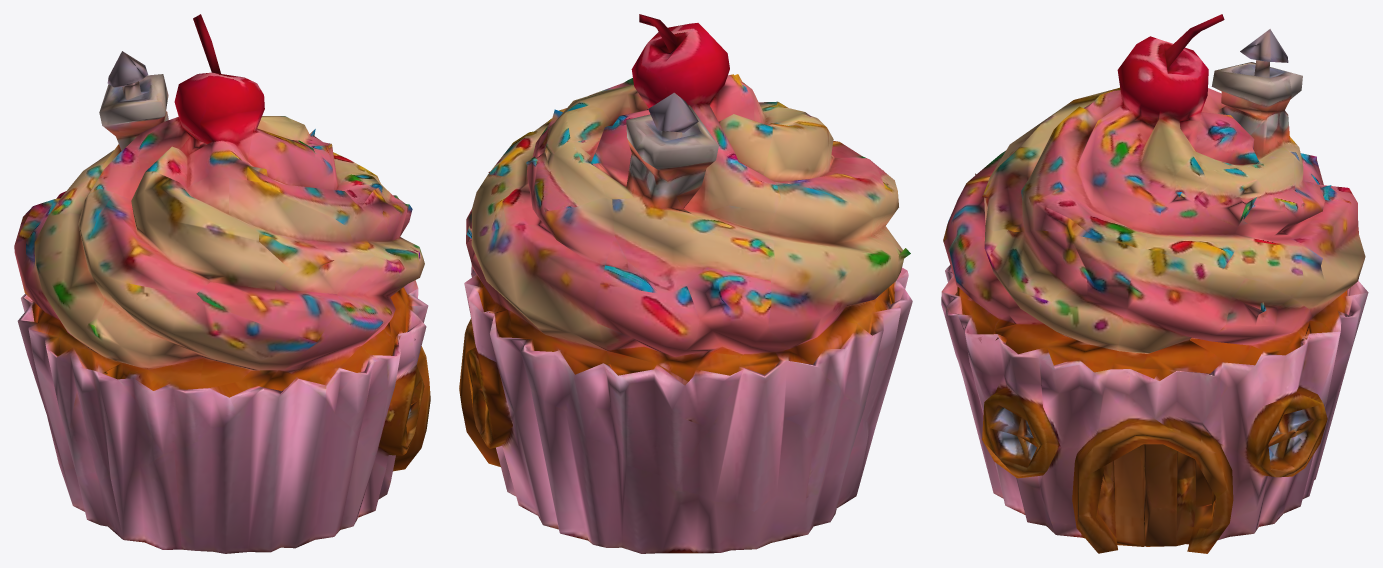
The model's file is candy-cupcake-house-lod-glf3HGH4.glb.
3 renders of one model, left to right at view 1: azimuth 30°, elevation 25°; view 2: azimuth 150°, elevation 25°; view 3: azimuth 270°, elevation 25°, orthographic. The views are drawn at different scales.
Parts seen in each view (by area): view 1: tripo_node_975bf4a6-d0b6-4f1c-a81e-98784e0141e9; view 2: tripo_node_975bf4a6-d0b6-4f1c-a81e-98784e0141e9; view 3: tripo_node_975bf4a6-d0b6-4f1c-a81e-98784e0141e9.
Part boxes in pixels (x1,y1,x2,y2): tripo_node_975bf4a6-d0b6-4f1c-a81e-98784e0141e9: [14, 14, 430, 553]; tripo_node_975bf4a6-d0b6-4f1c-a81e-98784e0141e9: [459, 14, 912, 553]; tripo_node_975bf4a6-d0b6-4f1c-a81e-98784e0141e9: [941, 14, 1368, 553].
Bounding box in the file's own units: 0.8136 × 0.9964 × 0.8214.
Materials: 1 (1 with a texture image).
